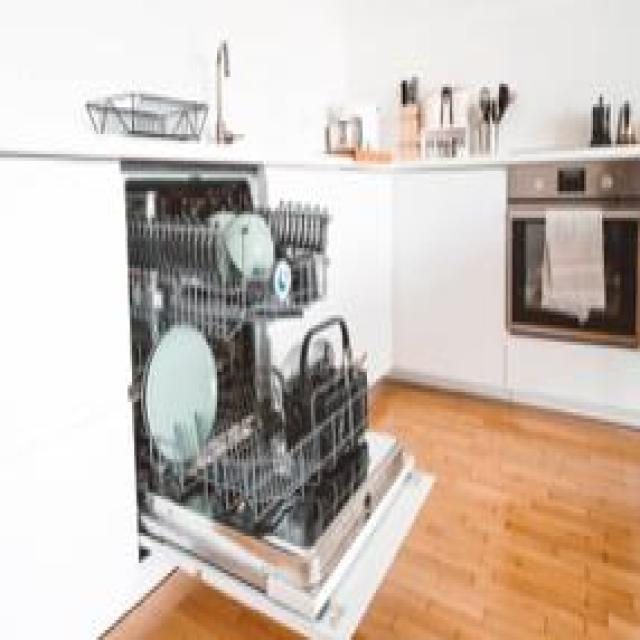dishwasher: (121, 154, 434, 637)
